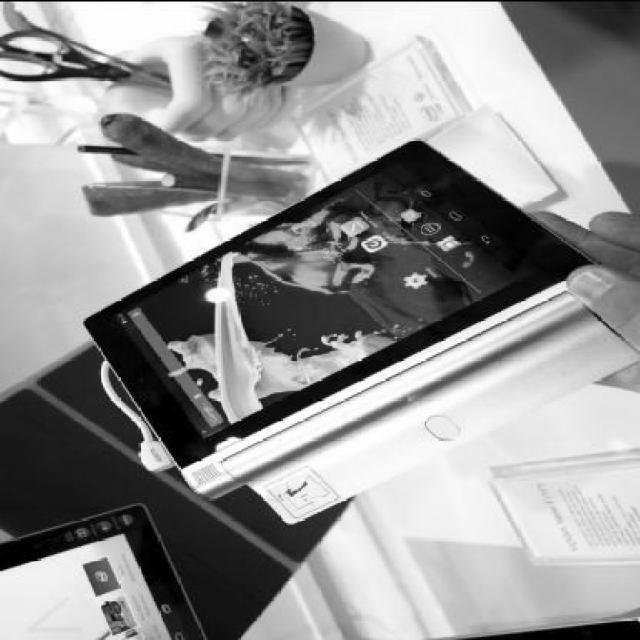fake: (141, 144, 561, 461)
